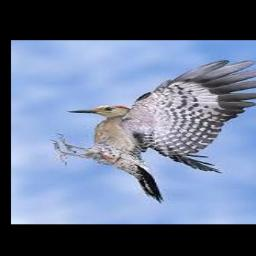Woodpecker: (51, 60, 256, 203)
